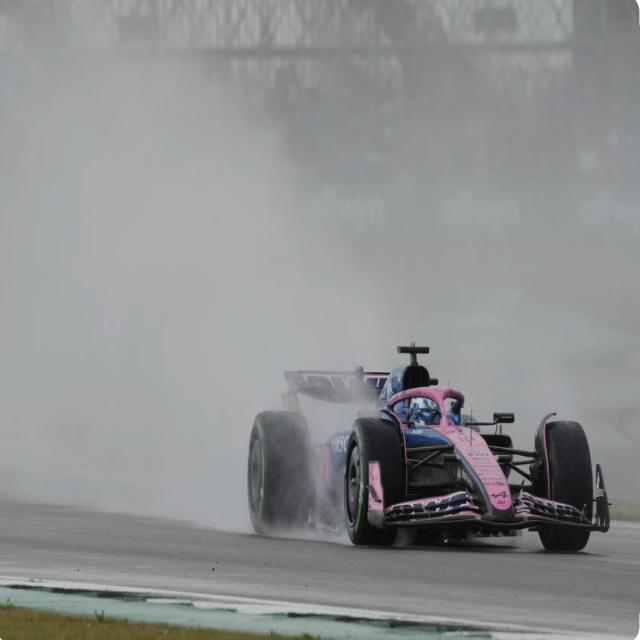Alpine: (248, 342, 612, 552)
